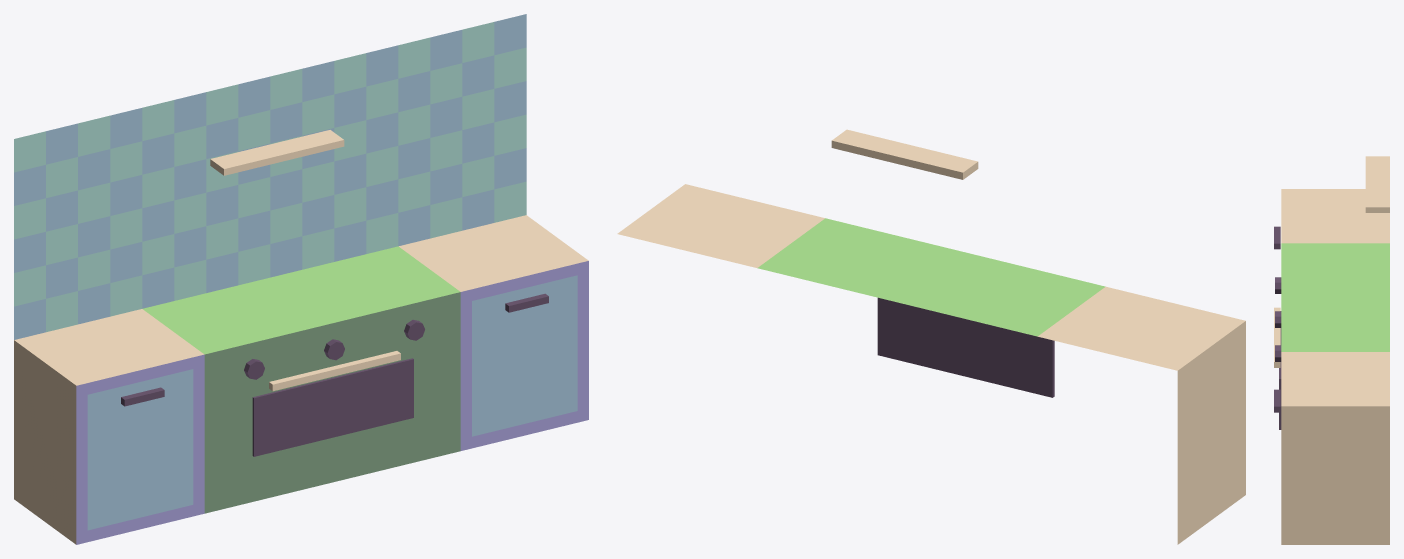
Rendered from kitchen.glb.
3 renders of one model, left to right at view 1: azimuth 30°, elevation 25°; view 2: azimuth 150°, elevation 25°; view 3: azimuth 270°, elevation 25°, orthographic. The views are drawn at different scales.
Parts seen in each view (by area): view 1: Wall, StoveBox, CounterL, CounterR, OvenWin, ShelfBoard, OvenBar, Knobs; view 2: CounterL, StoveBox, OvenWin, CounterR, ShelfBoard; view 3: CounterR, StoveBox, CounterL, ShelfBoard, Knobs, OvenBar, OvenWin, PullL, PullR.
Part boxes in pixels (box(x1,y1,x2,y2)): Wall: box(14, 14, 526, 339); StoveBox: box(142, 246, 460, 513); CounterL: box(14, 309, 204, 544); CounterR: box(399, 215, 588, 450); OvenWin: box(252, 358, 413, 456); ShelfBoard: box(210, 130, 344, 175); OvenBar: box(269, 351, 400, 391); Knobs: box(244, 319, 424, 379); CounterL: box(1038, 286, 1245, 544); StoveBox: box(757, 218, 1105, 336); OvenWin: box(877, 297, 1054, 397); CounterR: box(617, 184, 824, 267); ShelfBoard: box(831, 129, 978, 179); CounterR: box(1281, 352, 1389, 544); StoveBox: box(1281, 243, 1389, 351); CounterL: box(1281, 189, 1389, 243); ShelfBoard: box(1365, 156, 1389, 212); Knobs: box(1275, 277, 1281, 361); OvenBar: box(1274, 307, 1280, 367); OvenWin: box(1279, 328, 1281, 429); PullL: box(1274, 226, 1280, 249); PullR: box(1274, 389, 1280, 412).
Bounding box in the file's own units: 6.4 × 4.3 × 1.44.
